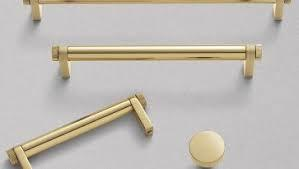handle: (48, 41, 272, 87), (3, 107, 161, 169), (21, 1, 289, 23), (182, 128, 246, 169)
